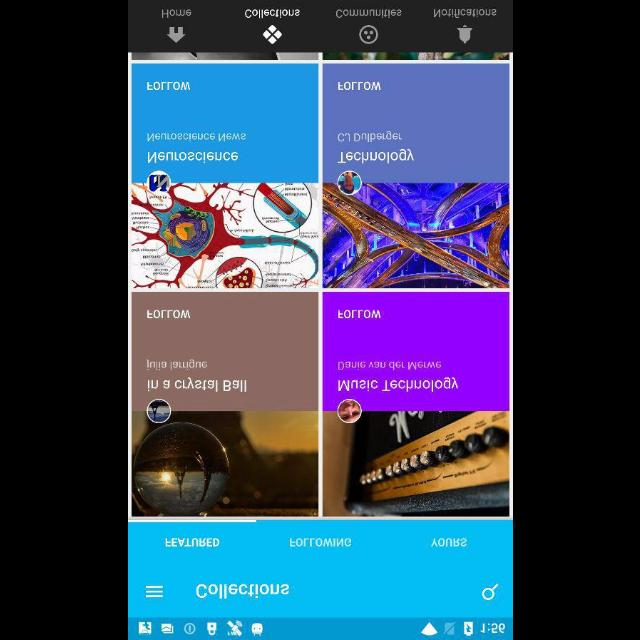icon: (167, 26, 186, 44), (480, 582, 498, 600), (456, 24, 472, 44), (144, 584, 164, 598)
image: (130, 182, 318, 288), (323, 410, 509, 516), (132, 410, 318, 516), (322, 183, 508, 287), (336, 170, 360, 196), (146, 171, 170, 195), (337, 399, 361, 423), (146, 399, 170, 423), (262, 23, 282, 44), (358, 25, 378, 45)
text: (337, 376, 459, 392), (195, 582, 289, 600), (147, 376, 247, 392), (336, 148, 416, 164), (148, 150, 238, 163), (337, 361, 441, 371), (146, 132, 247, 142), (336, 130, 404, 144), (145, 358, 207, 370), (243, 8, 300, 20), (334, 8, 402, 18), (432, 8, 496, 18), (288, 537, 352, 547), (164, 537, 220, 547), (429, 537, 466, 547), (337, 82, 381, 90), (146, 82, 190, 90), (337, 310, 381, 318), (146, 310, 190, 318), (162, 8, 192, 18)
uppertaskbar: (128, 617, 512, 639)
